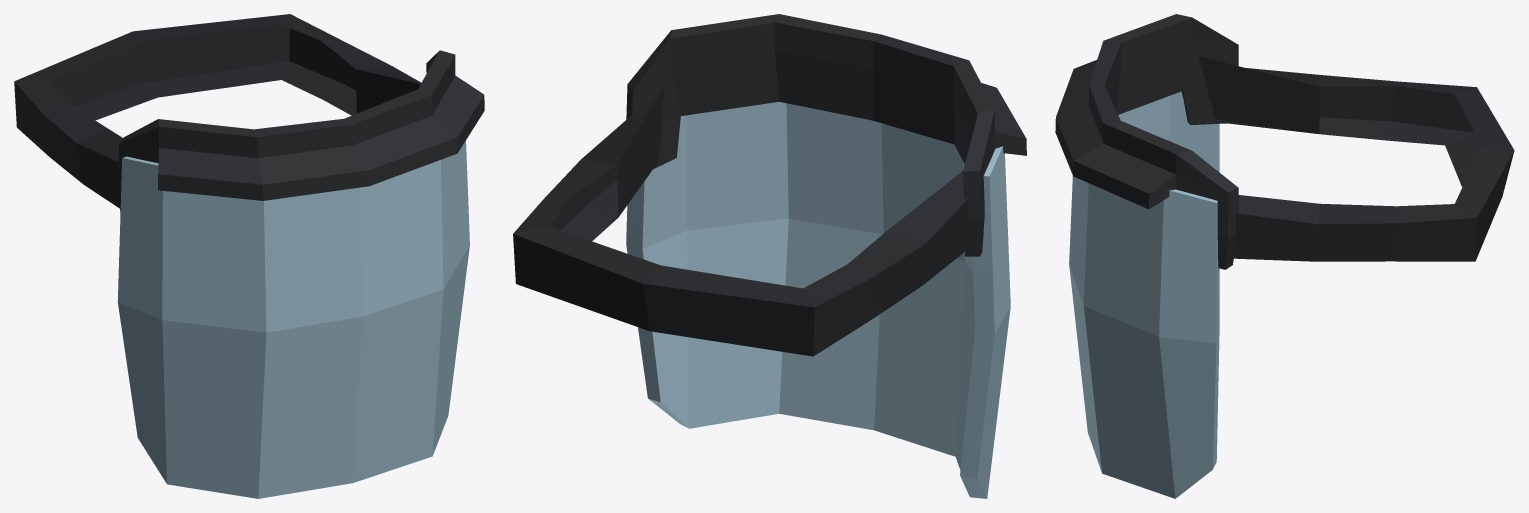
Rendered from SM_Chr_Attach_FaceShield_Plastic_01.fbx.
The picture shows the model from 3 angles, left to right: view 1: azimuth 30°, elevation 25°; view 2: azimuth 150°, elevation 25°; view 3: azimuth 270°, elevation 25°; orthographic projection. The views are drawn at different scales.
Parts seen in each view (by area): view 1: SM_Chr_Attach_FaceShield_Plastic_Glass_01, SM_Chr_Attach_FaceShield_Plastic_01; view 2: SM_Chr_Attach_FaceShield_Plastic_Glass_01, SM_Chr_Attach_FaceShield_Plastic_01; view 3: SM_Chr_Attach_FaceShield_Plastic_01, SM_Chr_Attach_FaceShield_Plastic_Glass_01.
Part boxes in pixels (x1,y1,x2,y2): SM_Chr_Attach_FaceShield_Plastic_Glass_01: (117,141,469,498); SM_Chr_Attach_FaceShield_Plastic_01: (14,14,484,212); SM_Chr_Attach_FaceShield_Plastic_Glass_01: (626,102,1010,498); SM_Chr_Attach_FaceShield_Plastic_01: (513,14,1026,356); SM_Chr_Attach_FaceShield_Plastic_01: (1055,14,1514,269); SM_Chr_Attach_FaceShield_Plastic_Glass_01: (1069,91,1219,498).
Bounding box in the file's own units: 30.45 × 31.15 × 36.98.
